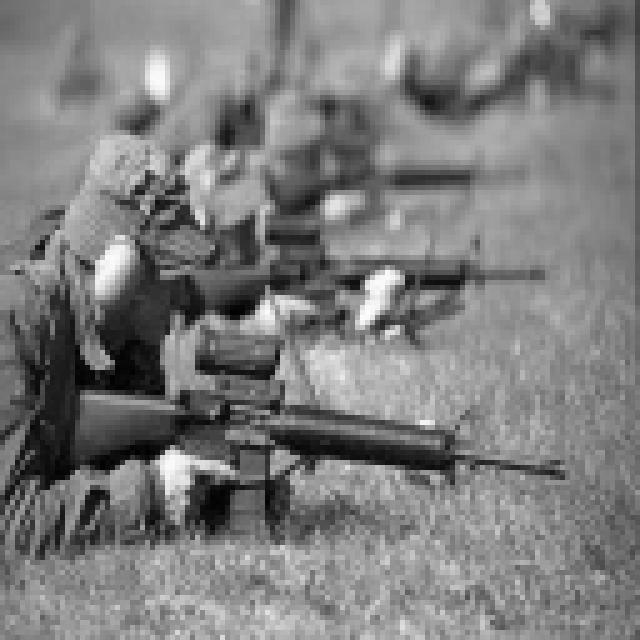Rifle: (56, 0, 587, 569)
